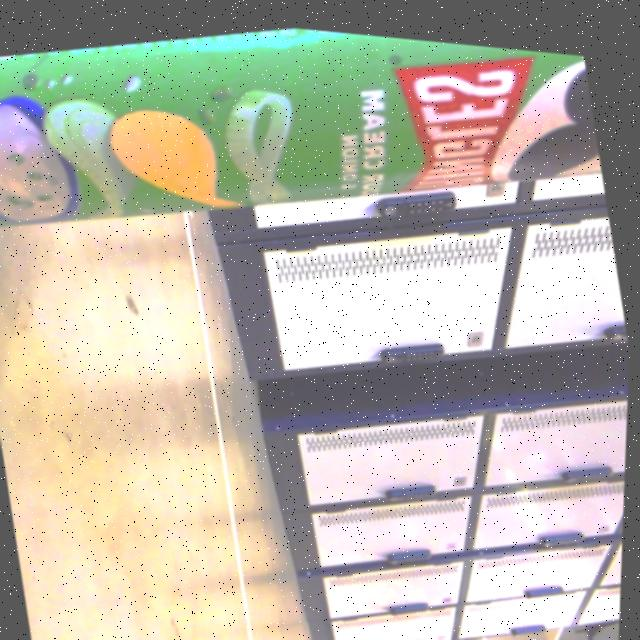greenpringles: (0, 0, 609, 297)
